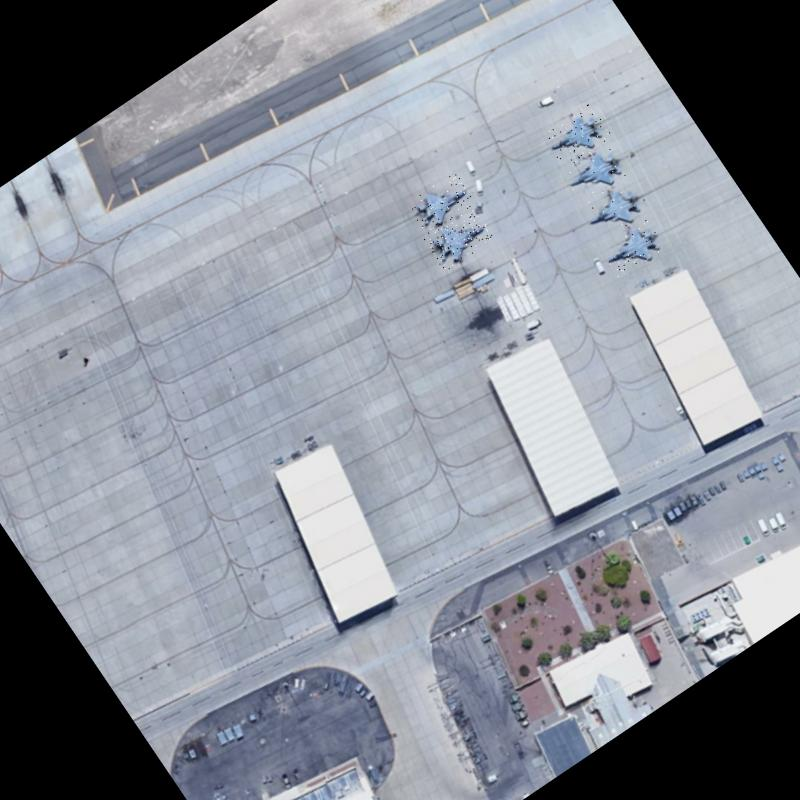A13: (423, 205, 496, 272), (579, 175, 651, 242), (542, 103, 613, 169), (560, 141, 630, 206), (598, 216, 668, 281), (407, 171, 476, 235)
